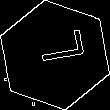L_W: (26, 35, 84, 75)
